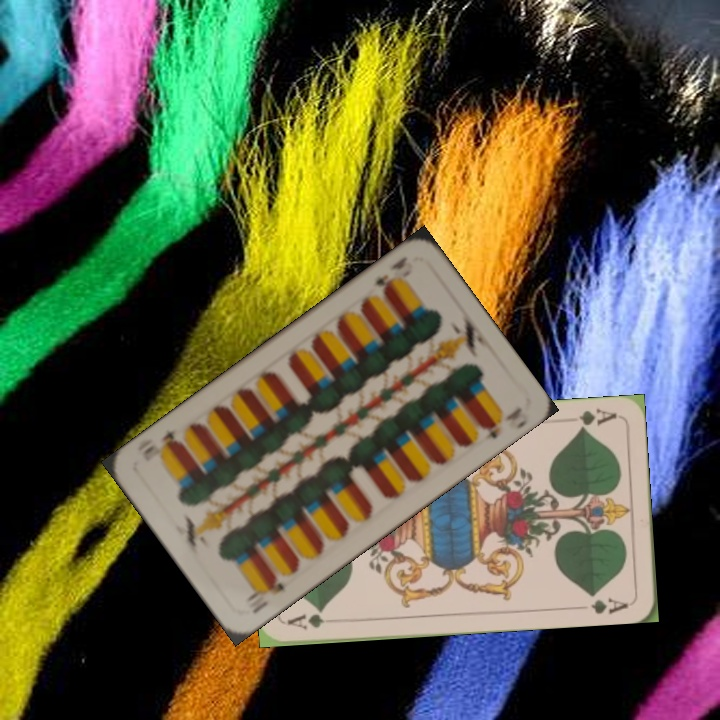E10: (242, 573, 287, 617), (371, 252, 410, 297)
GA: (573, 405, 619, 432), (283, 608, 327, 632)
